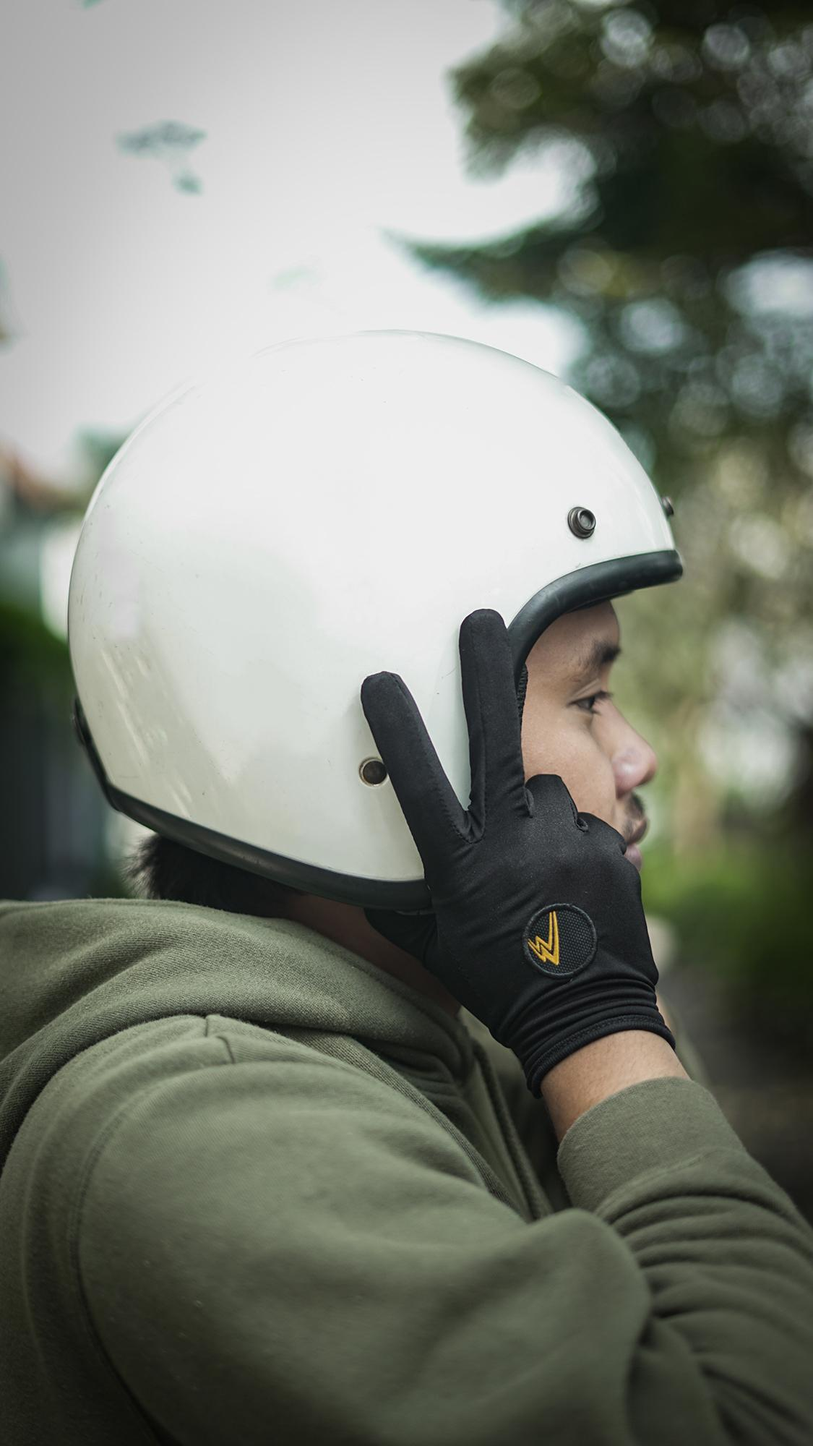helmet: (64, 325, 689, 996)
